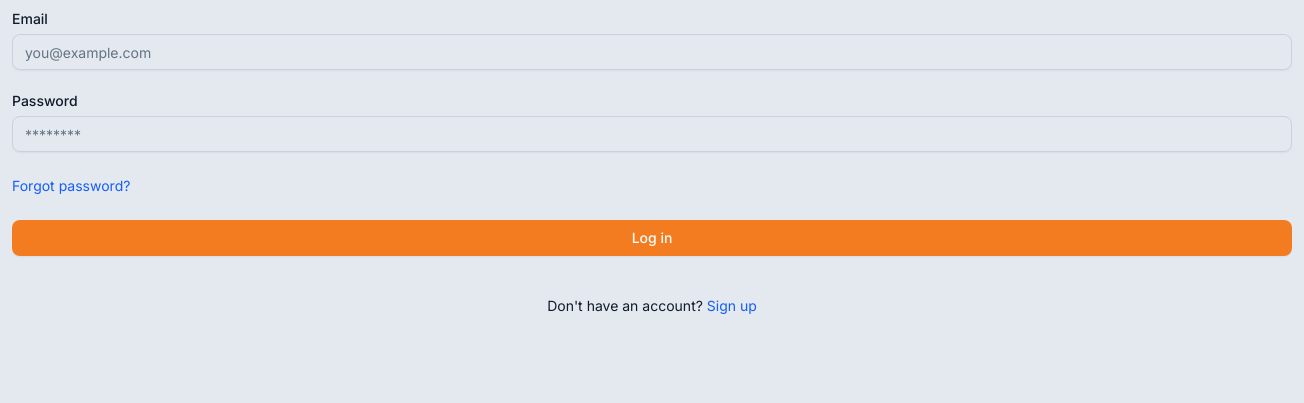
Test case: LoginForm › shows error message for unverified email
// Fill in form fields
Type "unverified@example.com" into the field labelled "Email" at (652,52), box [12,34,1292,70]
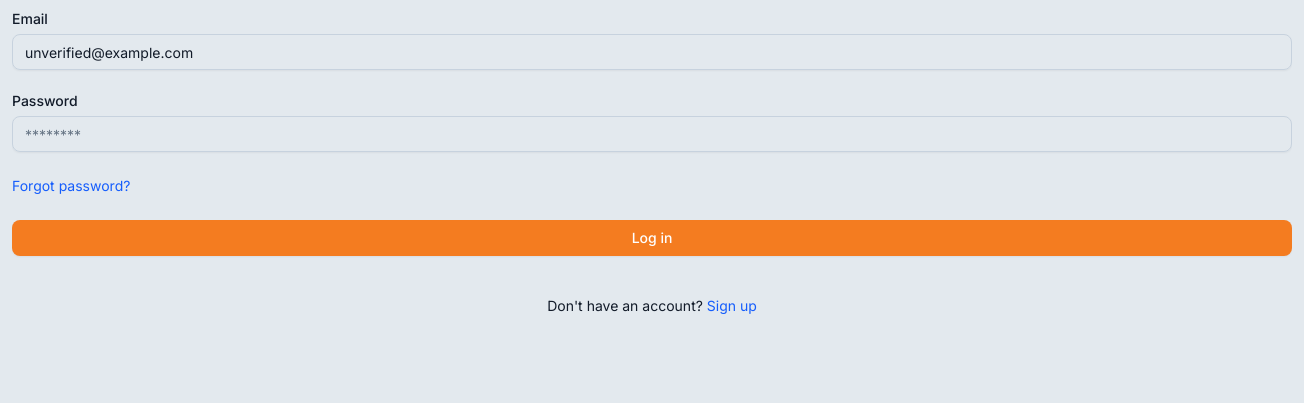
Type "password123" into the password field labelled "Password" at (652,134), box [12,116,1292,152]
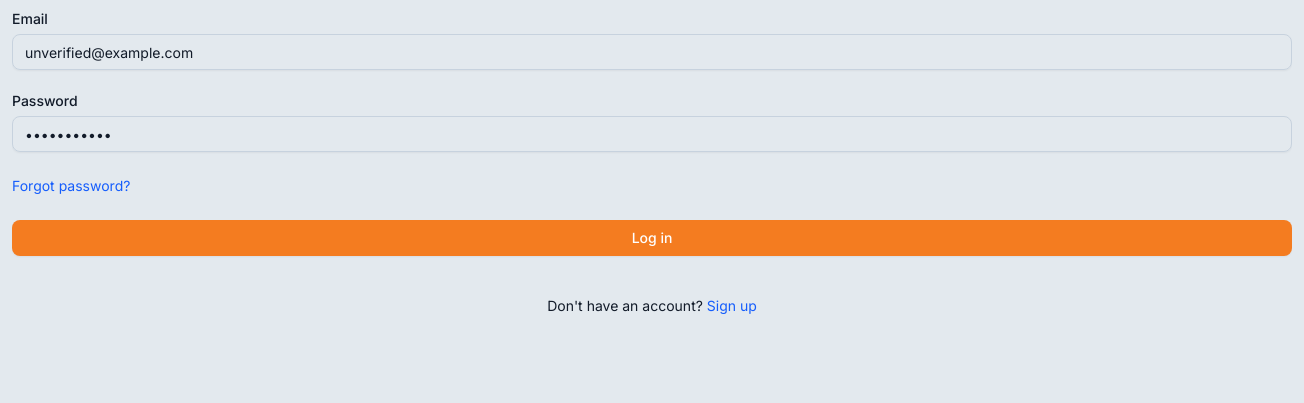
// Submit the form
Click the button "Log in" at (652,238), box [12,220,1292,256]
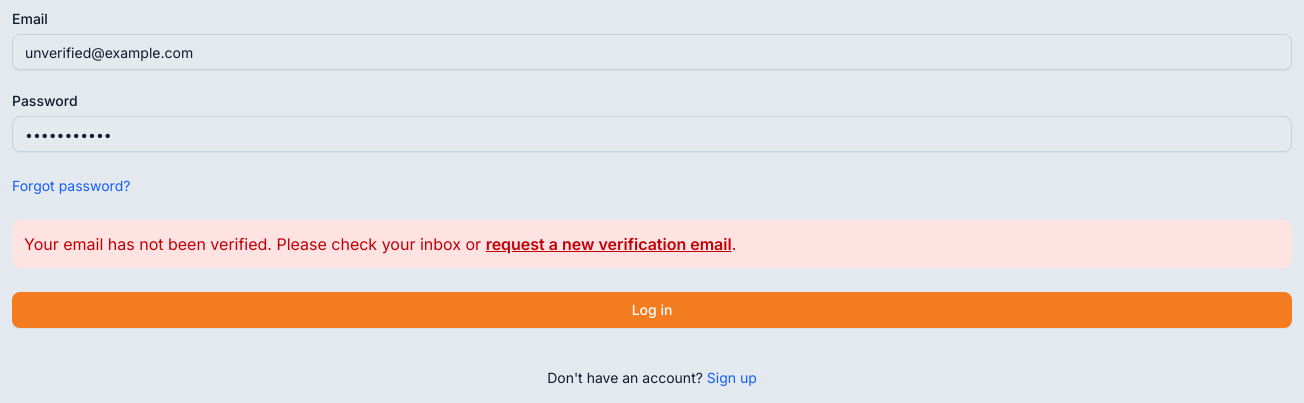
Expected: the text "Your email has not been verified" is shown, [24,234,481,254]
